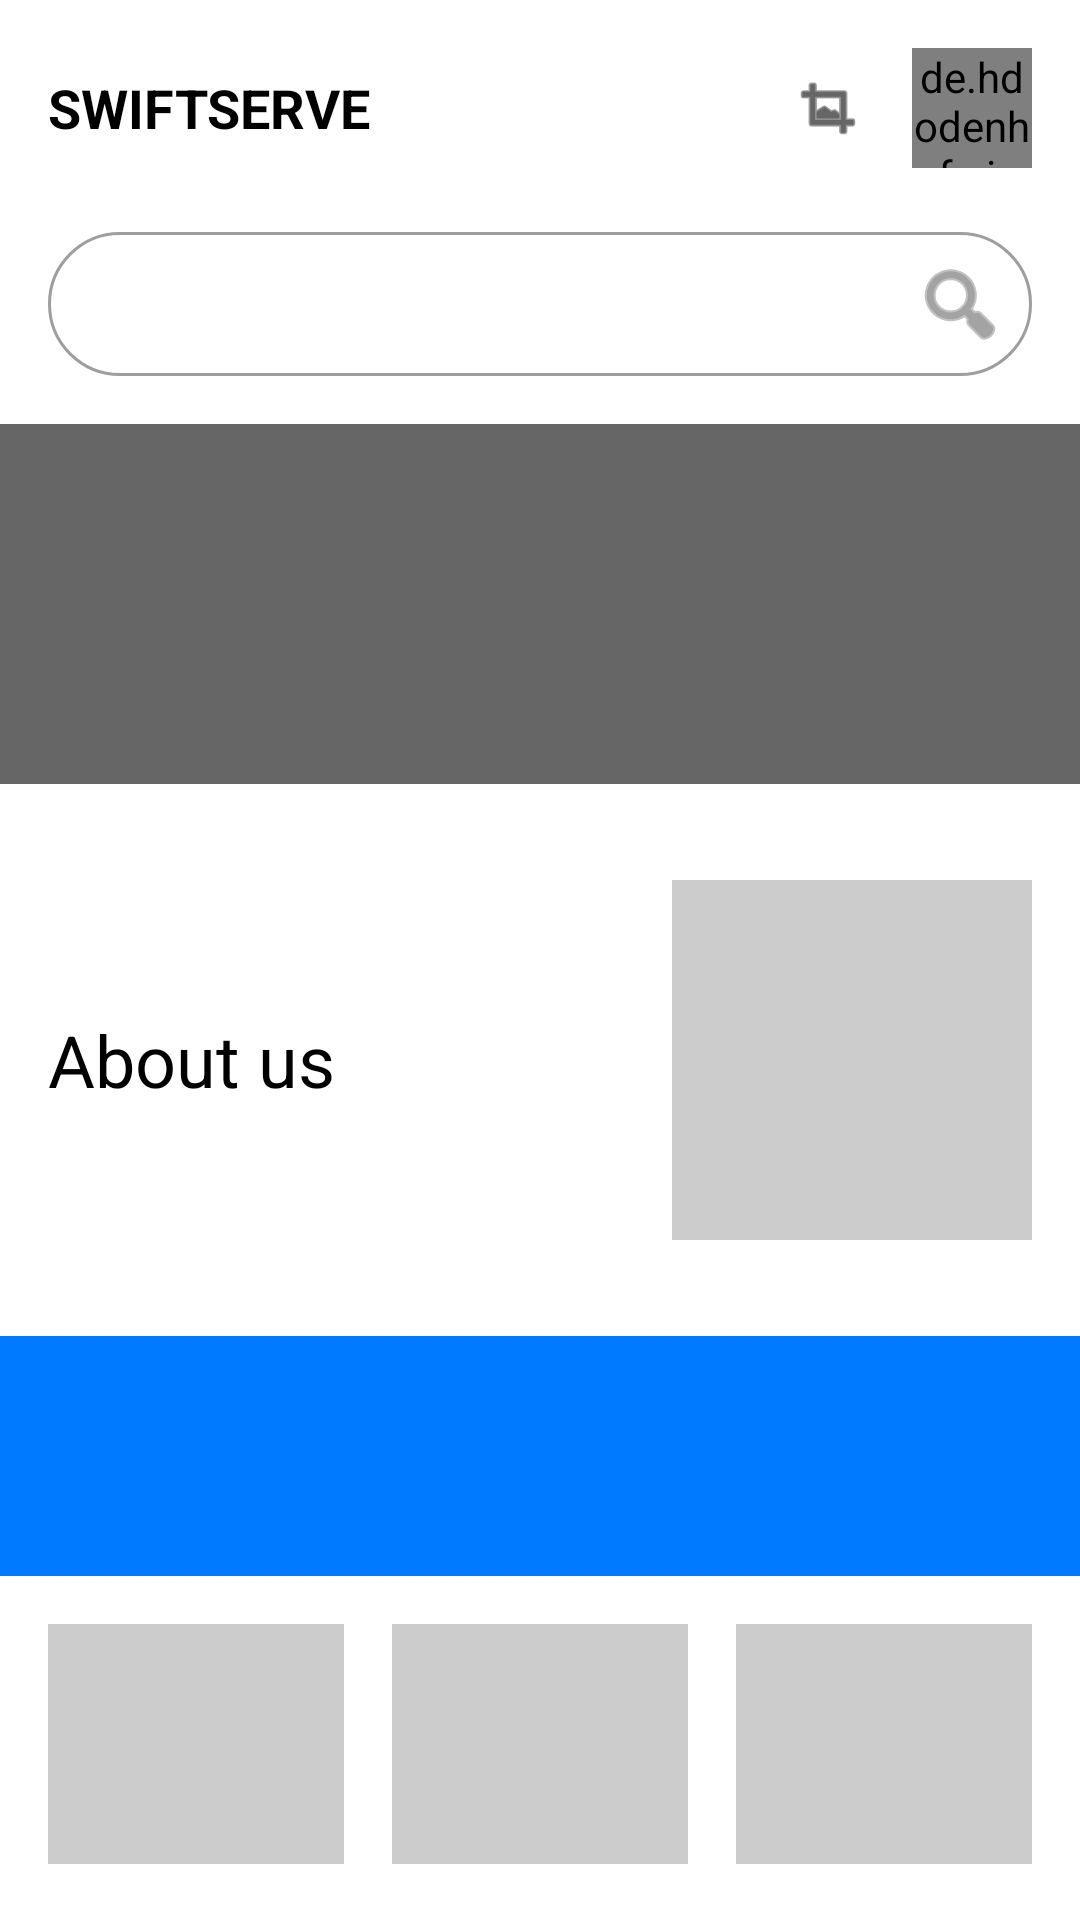

Where to tap for icons on this 1080px×1920px app screen, as (x=x, y=y):
crop: (x=828, y=108)
